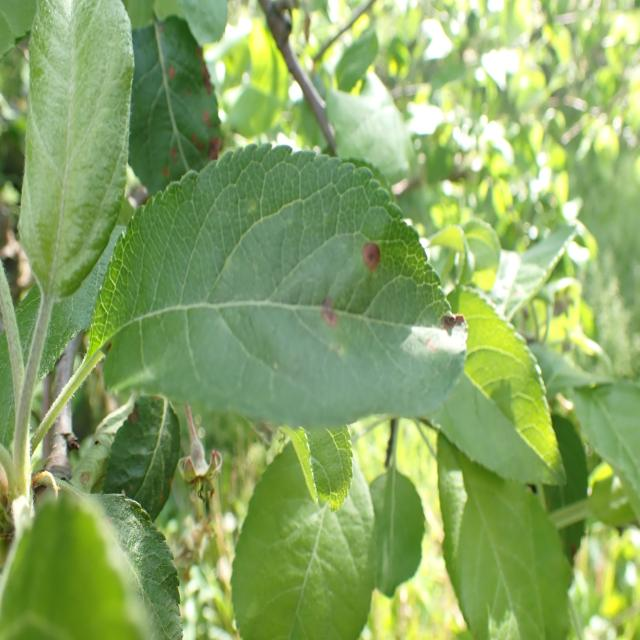Black Rot: (359, 225, 400, 314), (308, 283, 339, 351), (444, 298, 466, 355)
